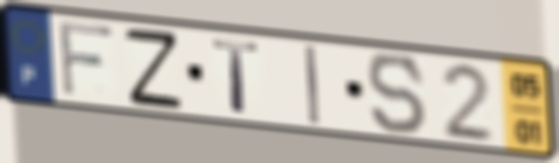2: (437, 60, 495, 145)
F: (55, 18, 118, 100)
I: (301, 42, 323, 128)
S: (364, 51, 430, 138)
T: (209, 37, 264, 117)
Z: (120, 25, 186, 111)
